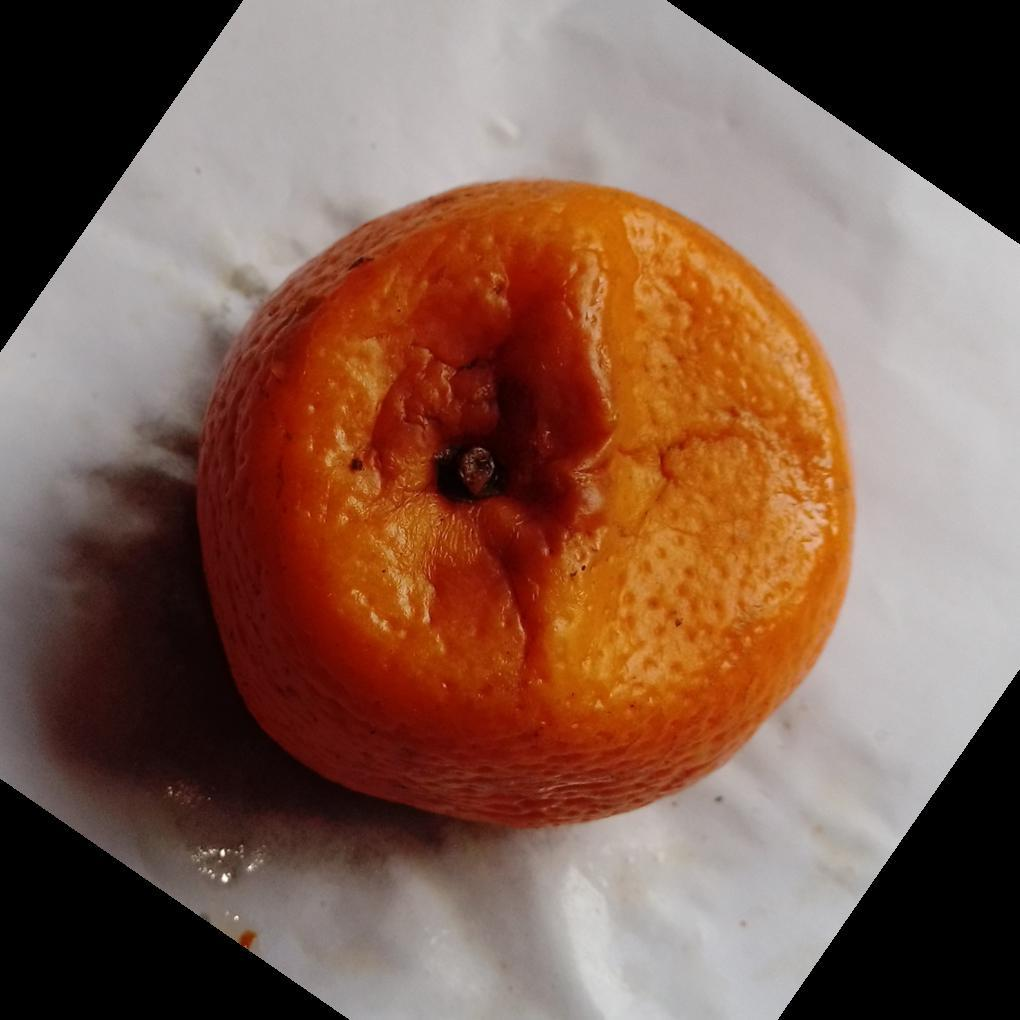FreshOrange: (192, 181, 859, 833)
